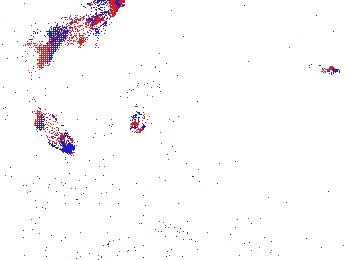X-ray fish: (314, 1, 346, 27)
glassfish: (78, 147, 181, 196)
red belly glassfish: (128, 105, 150, 135), (304, 60, 340, 75)
redtail glassfish: (39, 1, 122, 63), (34, 103, 74, 150)
